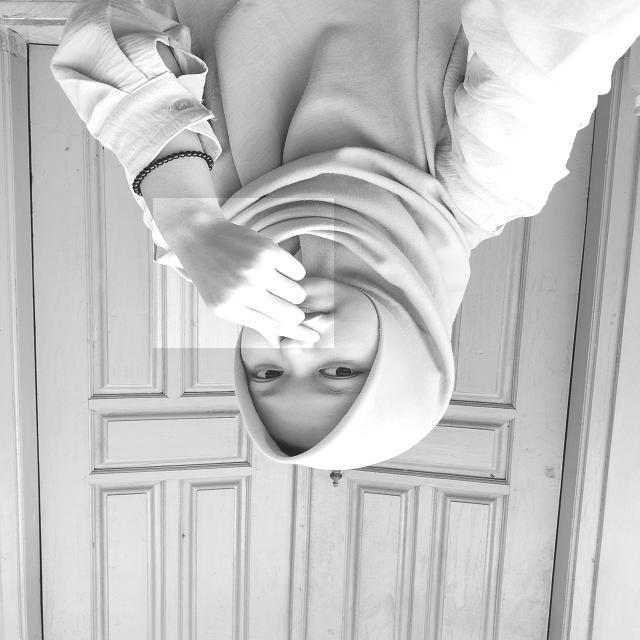bau: (153, 198, 334, 348)
